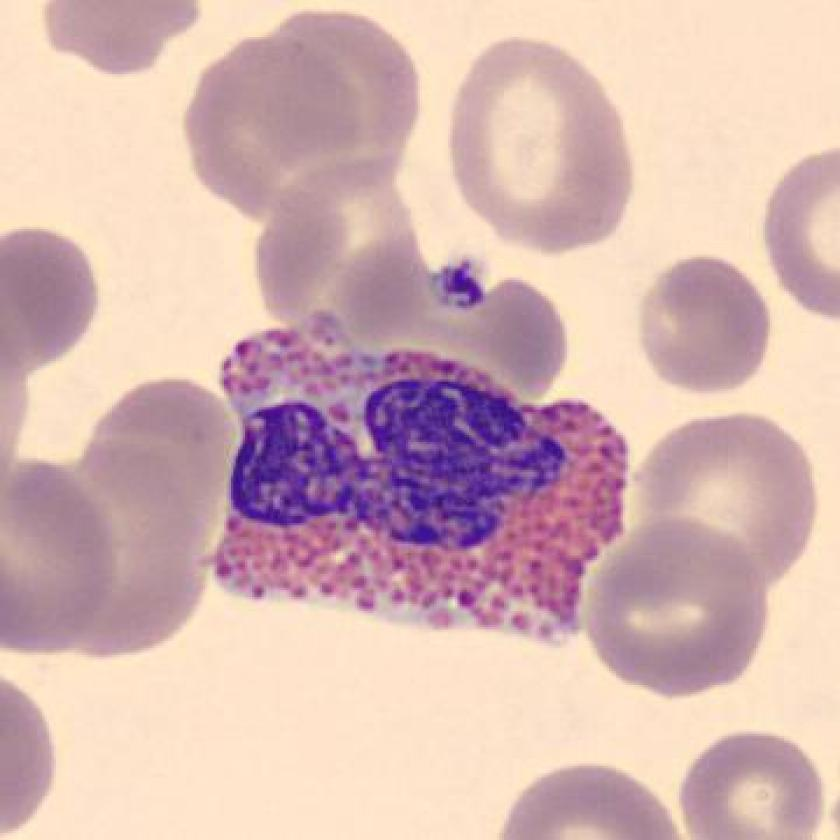eosinophil: (190, 299, 640, 663)
